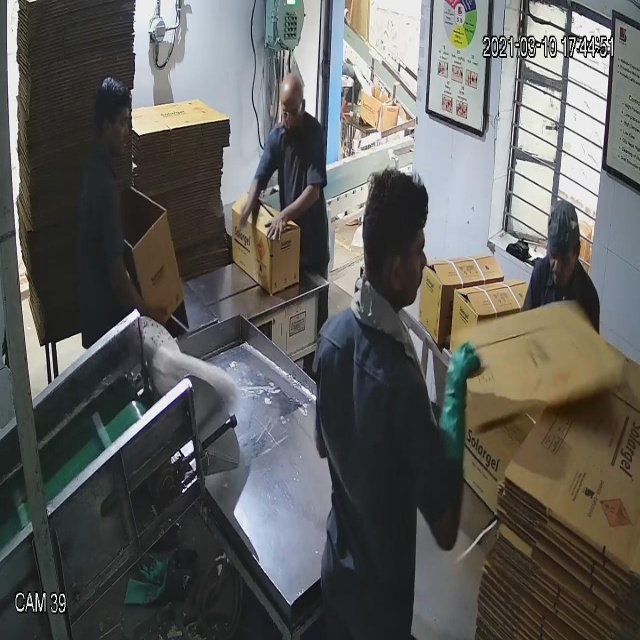Sin_guantes: (266, 173, 318, 253), (234, 164, 271, 243)
